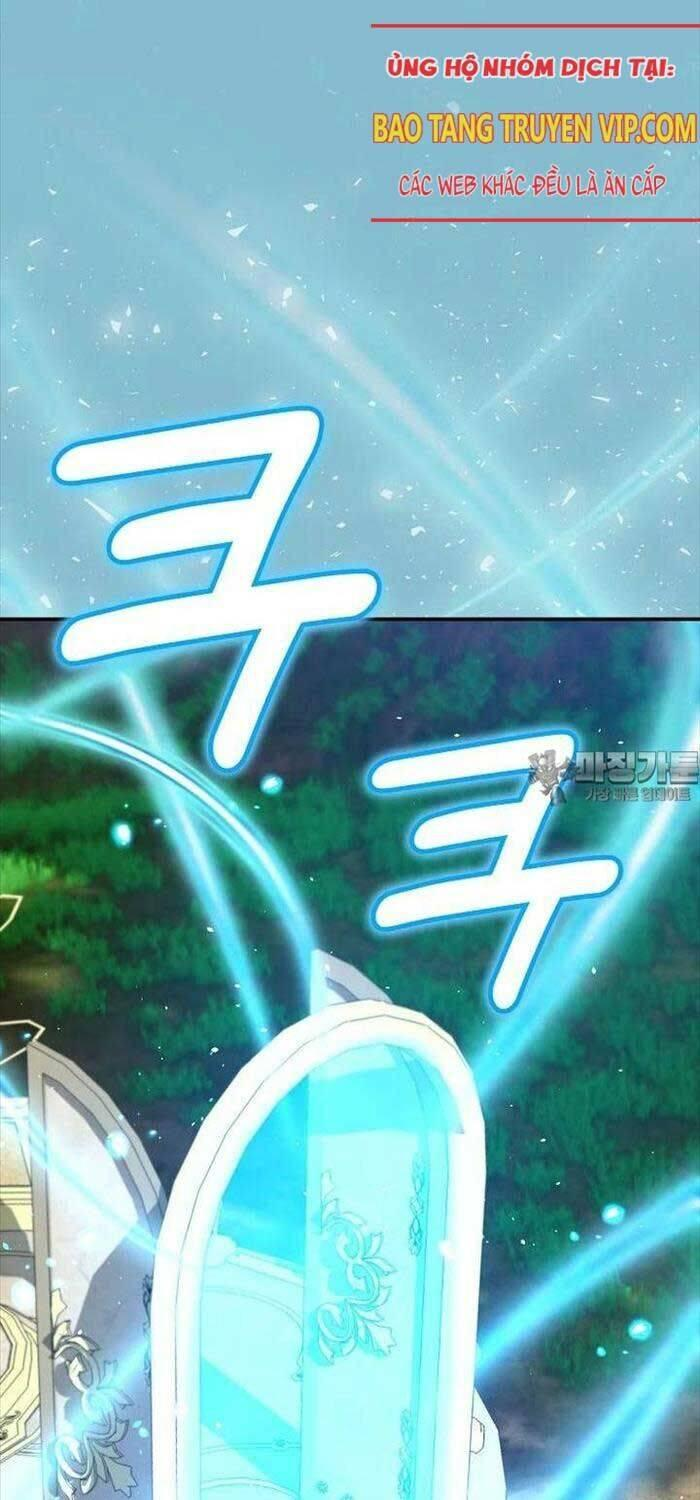quangcao: (366, 22, 700, 230)
